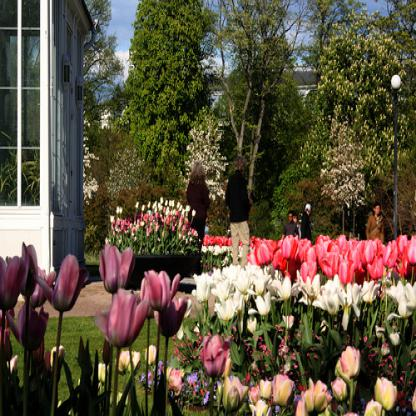TULIP: (17, 194, 412, 399)
